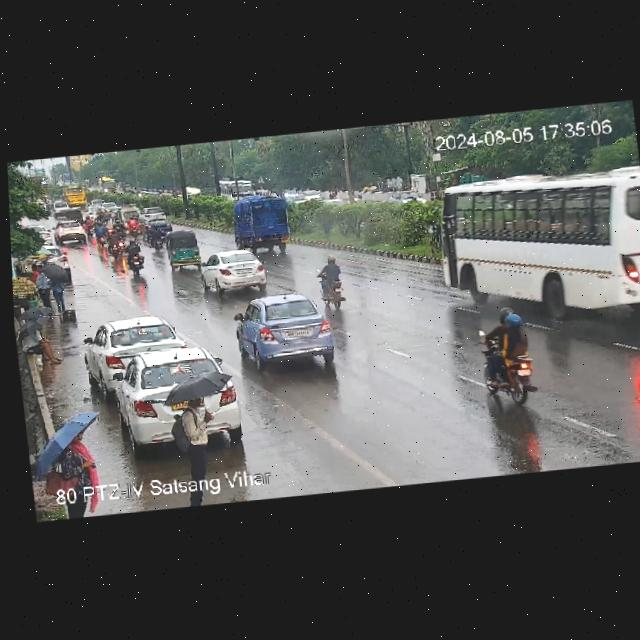bus: (432, 165, 640, 315), (220, 176, 254, 199), (62, 184, 90, 207)
car: (92, 342, 242, 455), (235, 288, 343, 369), (83, 312, 189, 380), (197, 249, 271, 294), (162, 227, 205, 269), (54, 220, 89, 244), (140, 206, 169, 224), (54, 206, 83, 223), (118, 205, 141, 225), (144, 216, 172, 231), (103, 213, 115, 235), (51, 200, 62, 218), (84, 203, 97, 217), (101, 200, 113, 212), (90, 199, 103, 206)
motorcycle: (478, 308, 539, 401), (317, 256, 351, 309), (122, 235, 150, 276), (105, 229, 128, 257), (144, 224, 166, 252), (94, 222, 106, 249), (124, 214, 138, 236), (83, 215, 95, 237), (115, 217, 125, 236)
person: (169, 389, 223, 472), (42, 430, 98, 491), (33, 259, 72, 313)
truck: (229, 193, 291, 253)
